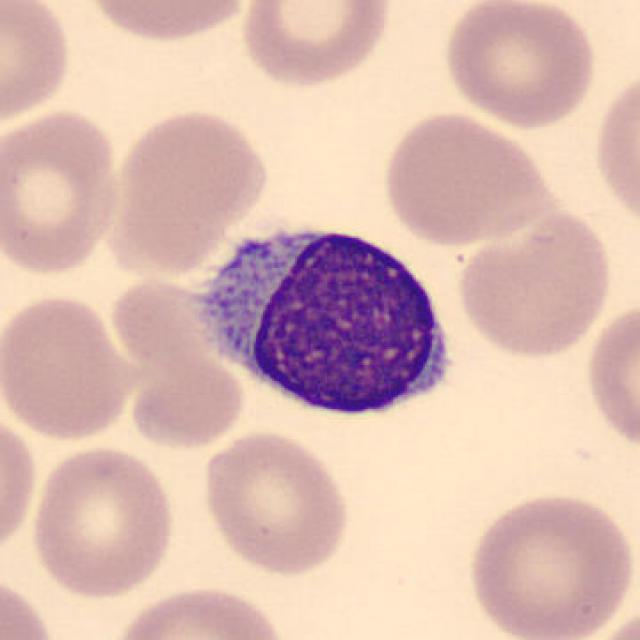Lymphocyte: (185, 204, 466, 428)
RBC: (101, 104, 272, 275), (460, 486, 634, 640), (451, 206, 617, 362), (25, 441, 179, 601), (377, 107, 551, 247), (197, 427, 354, 578), (0, 105, 126, 278), (0, 289, 140, 444), (439, 0, 601, 130), (236, 0, 396, 92), (123, 351, 249, 451), (101, 580, 292, 640), (0, 0, 76, 130), (581, 296, 640, 457), (75, 0, 256, 46), (590, 62, 638, 235), (0, 408, 39, 562), (0, 569, 62, 640), (585, 599, 640, 640)
